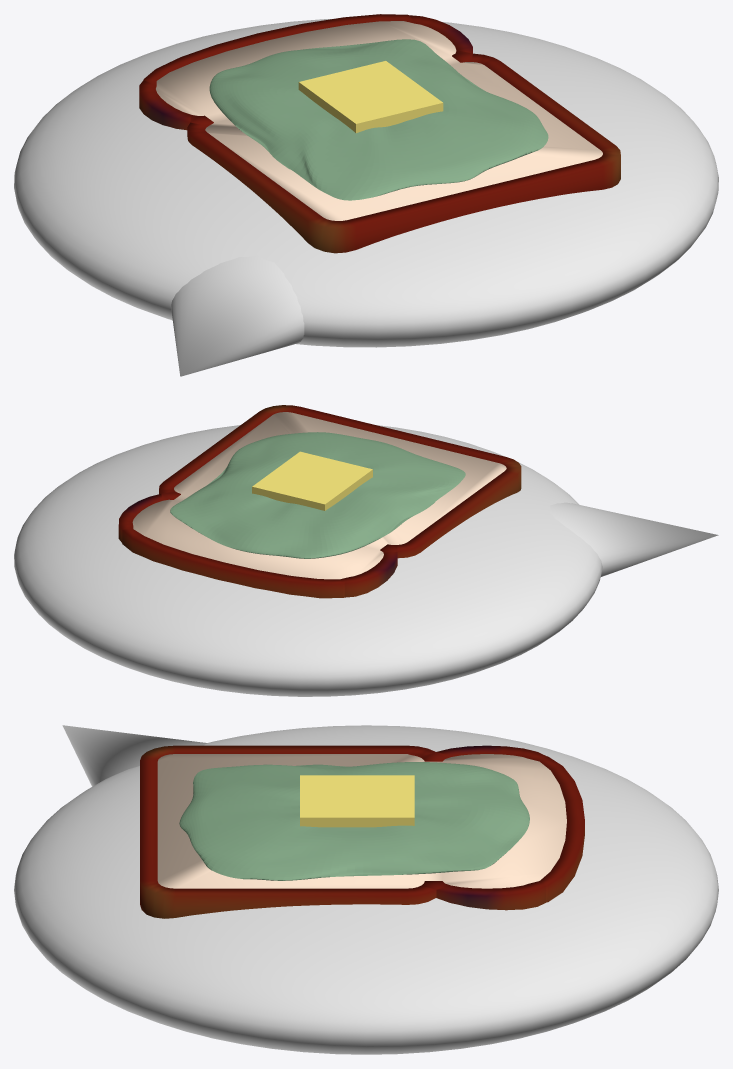
Rendered from reqToast3.fbx.
3 views of the same model, one above another, from view 1: azimuth 30°, elevation 25°; view 2: azimuth 150°, elevation 25°; view 3: azimuth 270°, elevation 25° (orthographic). The views are drawn at different scales.
Parts seen in each view (by area): view 1: Sphere.001, Sphere, obj_0.001, obj_0, Cone, Cube; view 2: Sphere.001, Sphere, obj_0, obj_0.001, Cone, Cube; view 3: Sphere.001, Sphere, obj_0, obj_0.001, Cube, Cone.
Boxes of the visible parts, x1=… form: Sphere.001: x1=14, y1=18, x2=718, y2=347; Sphere: x1=209, y1=39, x2=548, y2=200; obj_0.001: x1=139, y1=14, x2=620, y2=253; obj_0: x1=156, y1=21, x2=602, y2=220; Cone: x1=171, y1=255, x2=304, y2=376; Cube: x1=298, y1=61, x2=443, y2=133; Sphere.001: x1=14, y1=425, x2=602, y2=696; Sphere: x1=170, y1=432, x2=465, y2=558; obj_0: x1=132, y1=412, x2=506, y2=579; obj_0.001: x1=118, y1=405, x2=521, y2=598; Cone: x1=548, y1=502, x2=718, y2=576; Cube: x1=252, y1=451, x2=372, y2=510; Sphere.001: x1=14, y1=725, x2=718, y2=1054; Sphere: x1=179, y1=762, x2=529, y2=880; obj_0: x1=157, y1=754, x2=566, y2=888; obj_0.001: x1=140, y1=745, x2=584, y2=918; Cube: x1=300, y1=775, x2=414, y2=827; Cone: x1=62, y1=725, x2=206, y2=786.
Size of the model in its own units: 339 by 82.94 by 322.
